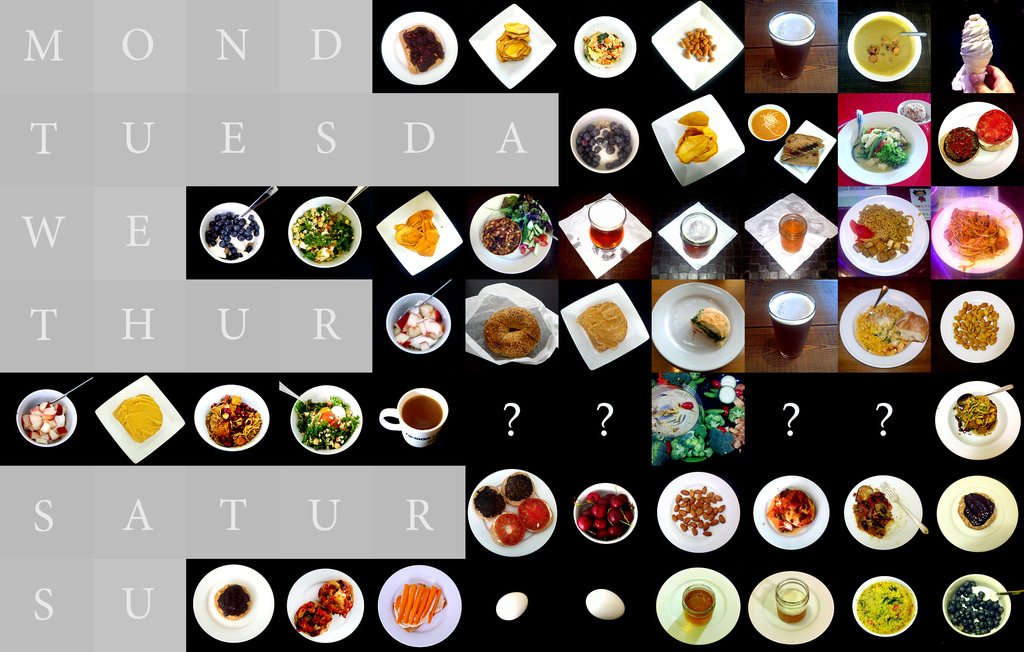sushi: (472, 478, 509, 524), (956, 488, 996, 530), (938, 126, 981, 164), (976, 106, 1012, 151), (211, 583, 254, 619), (490, 508, 530, 546), (499, 466, 536, 507), (519, 494, 556, 534)
